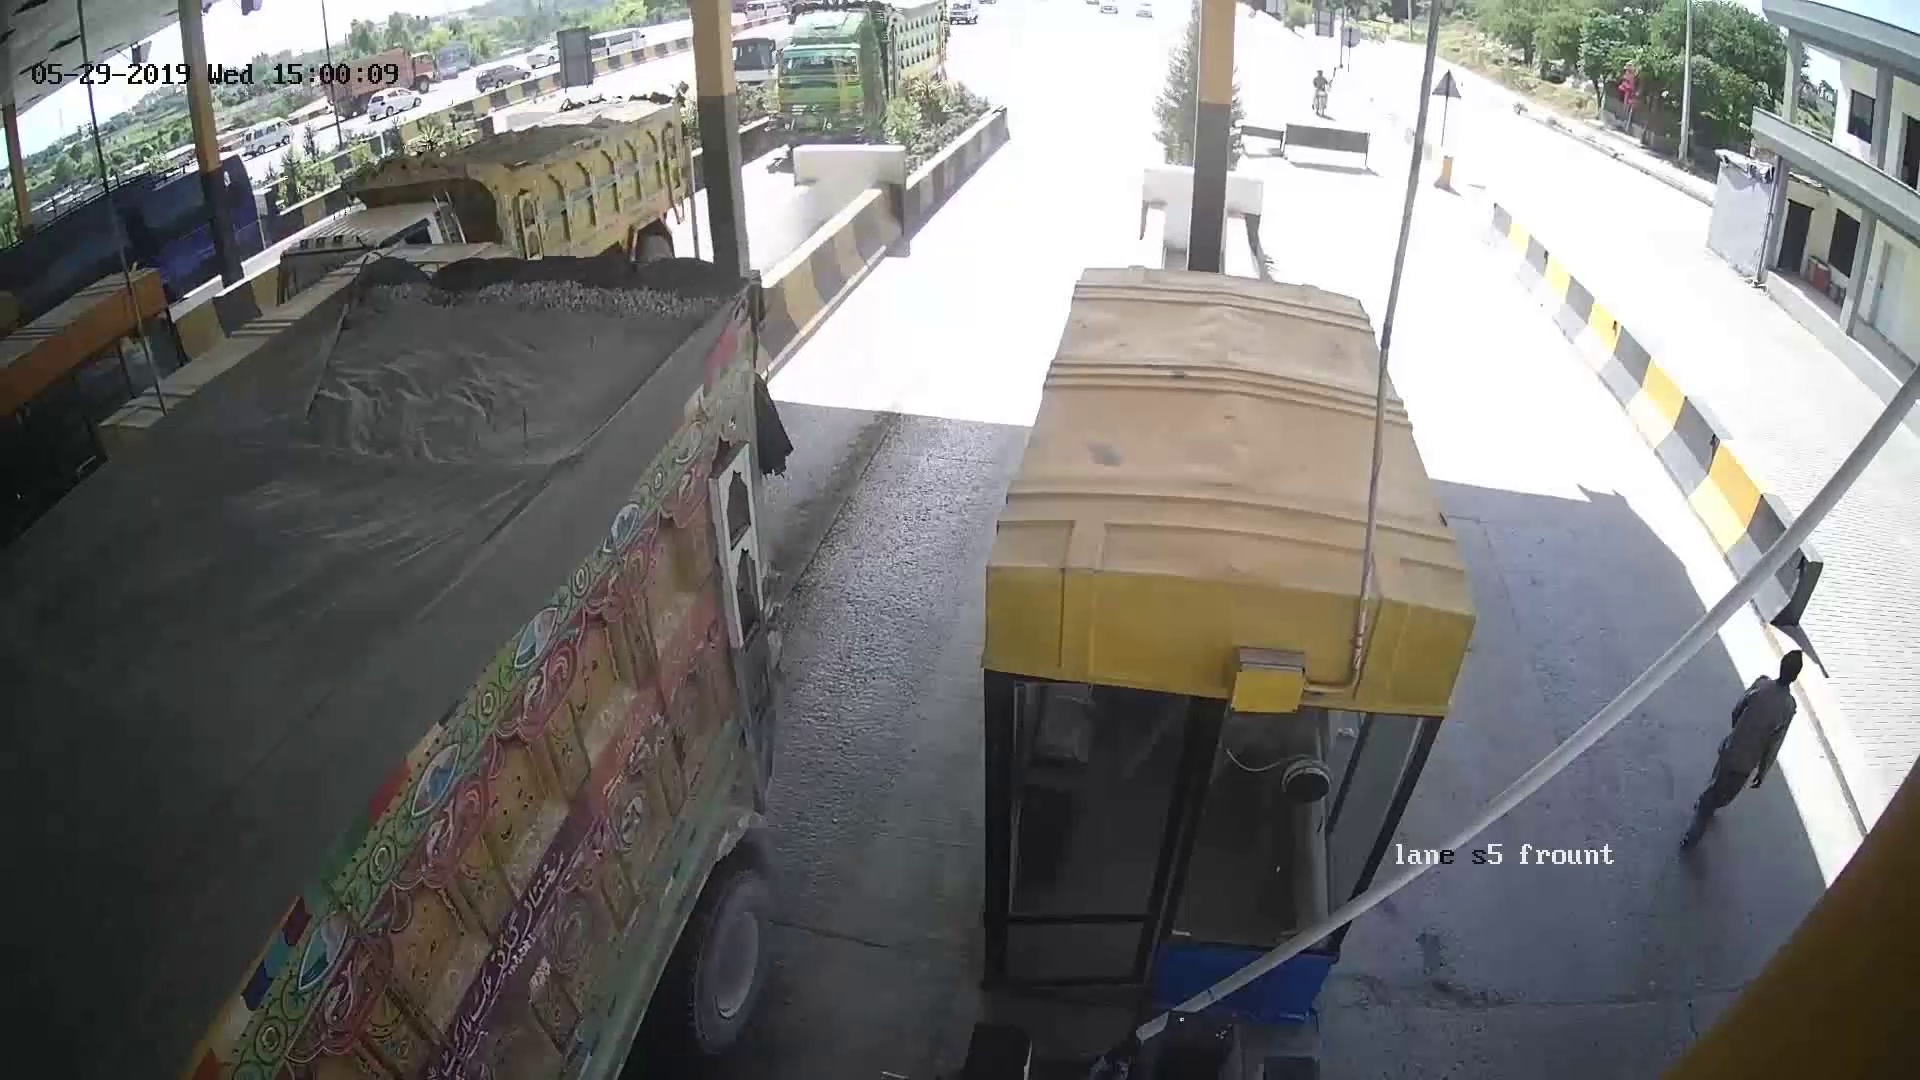truck: (74, 277, 767, 1033)
